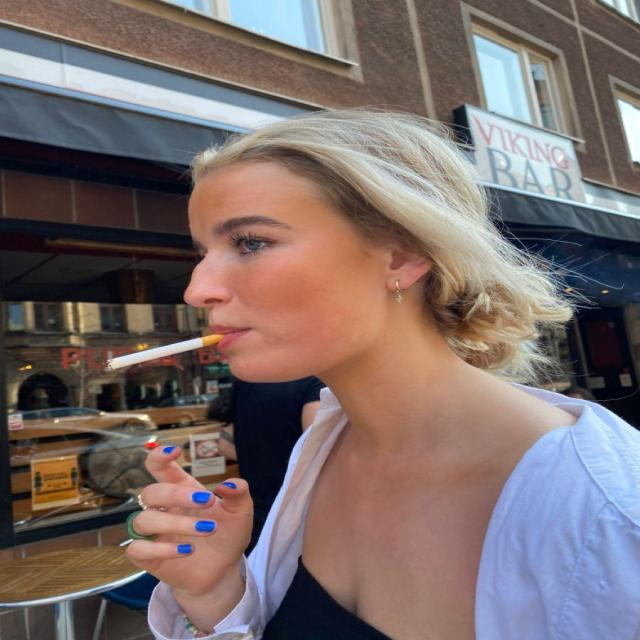cigarette: (68, 315, 252, 406)
